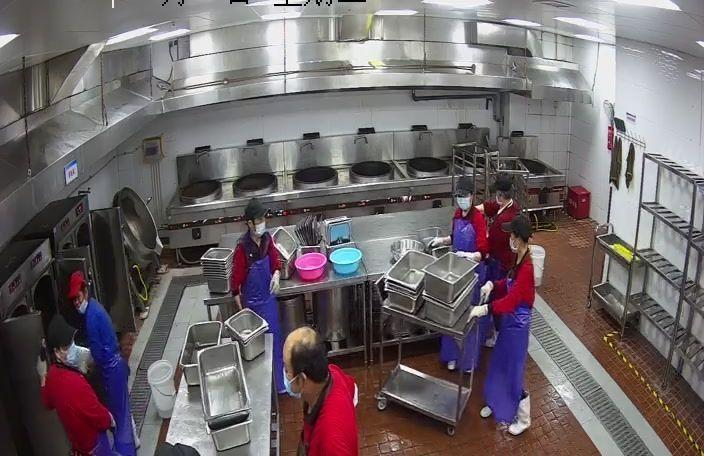mask: (73, 294, 91, 312)
